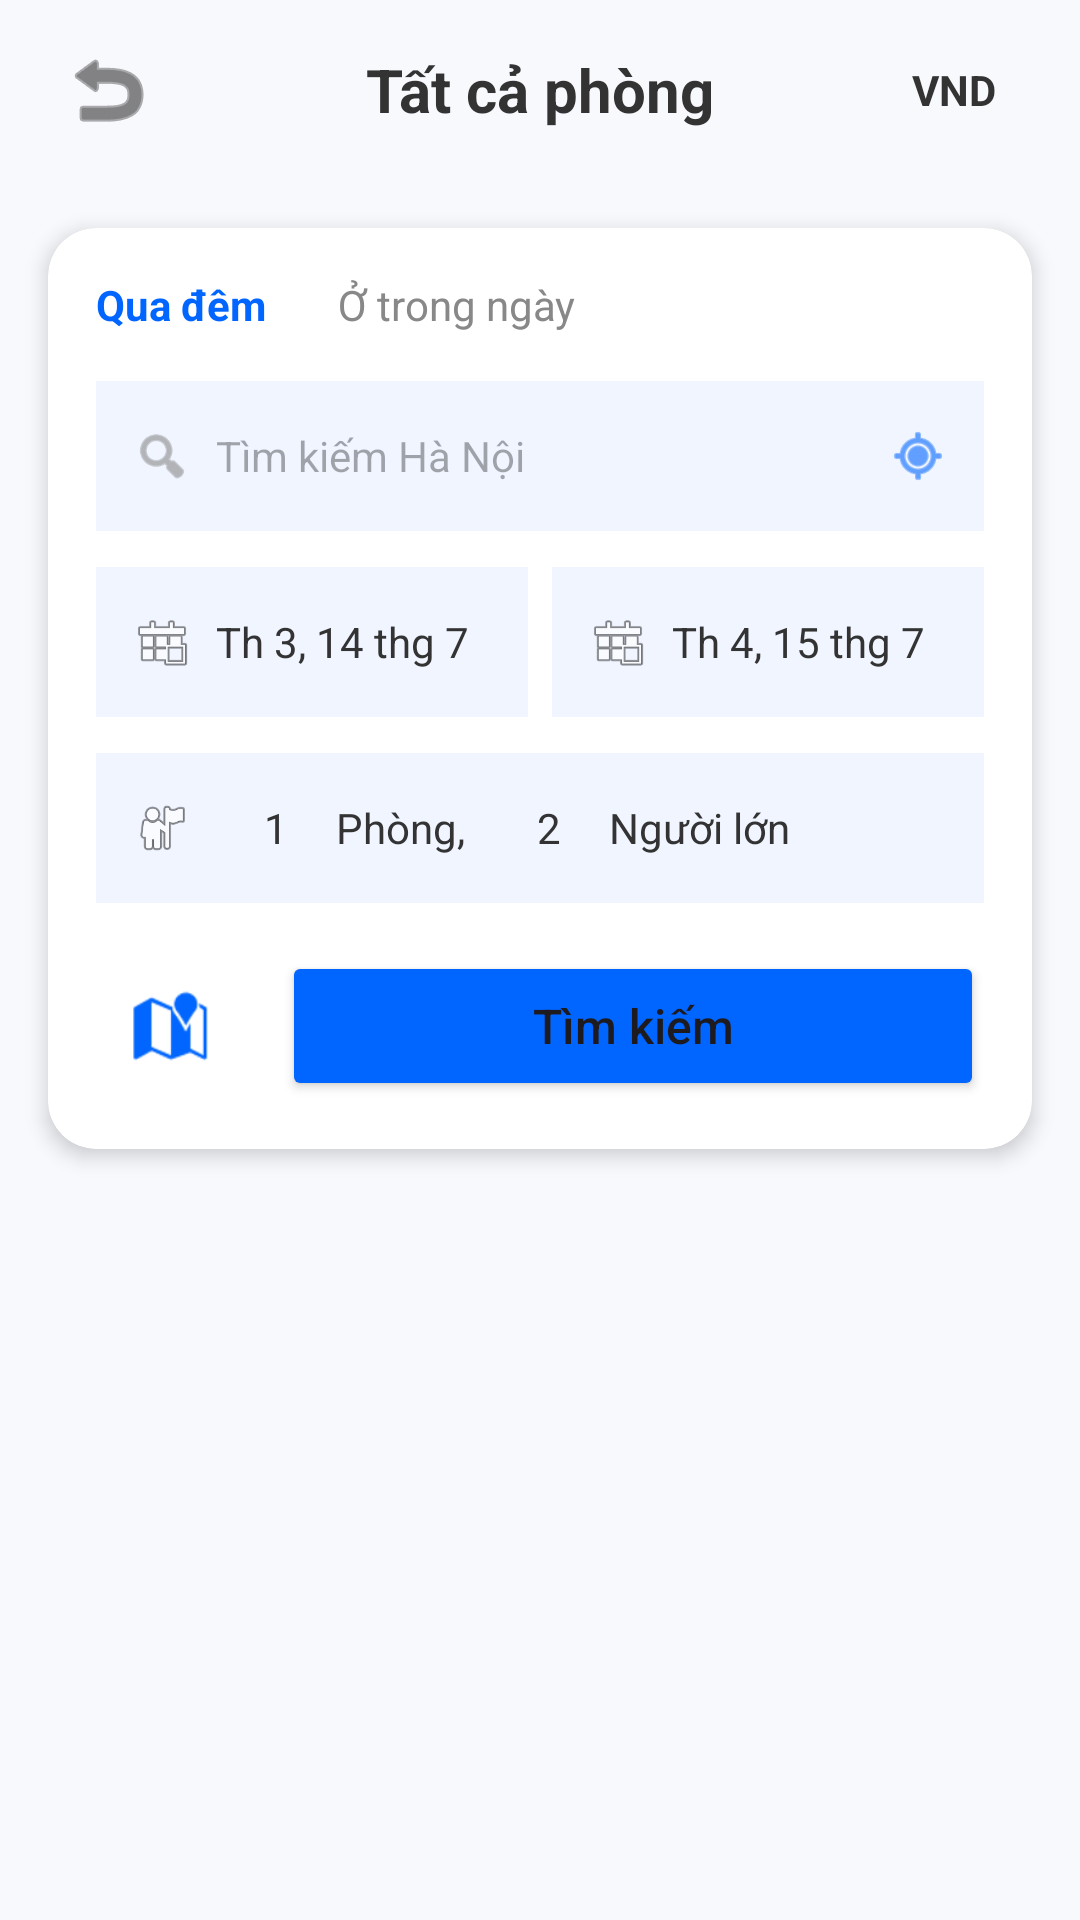

Where to tap for icons on this 1080 x 1920 app screen, as [x,y]:
map: [170,1026]
mylocation: [918,456]
revert: [109,90]
search: [162,456]
today: [163,643], [619,643]
